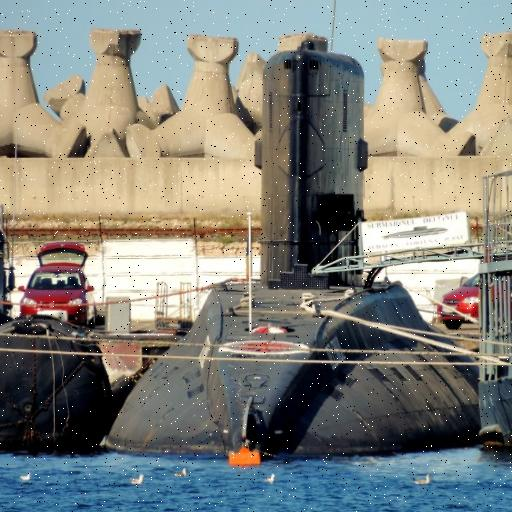submarine: (100, 52, 479, 460)
